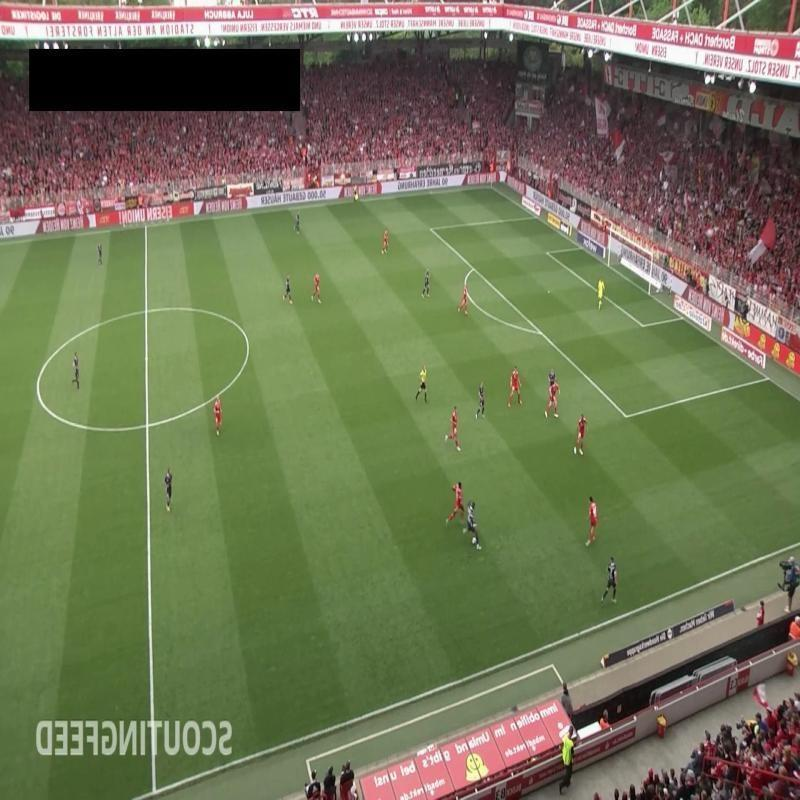1: (484, 181, 499, 195)
10: (465, 260, 480, 274)
11: (534, 326, 548, 340)
12: (619, 410, 633, 424)
13: (139, 218, 153, 232)
14: (138, 304, 155, 320)
15: (140, 416, 156, 432)
16: (144, 782, 166, 800)
2: (530, 210, 544, 224)
3: (574, 240, 588, 253)
4: (675, 312, 689, 326)
5: (762, 372, 776, 386)
7: (540, 247, 554, 260)
8: (636, 318, 650, 332)
9: (423, 222, 438, 236)
c: (30, 375, 48, 396), (240, 336, 254, 350)
